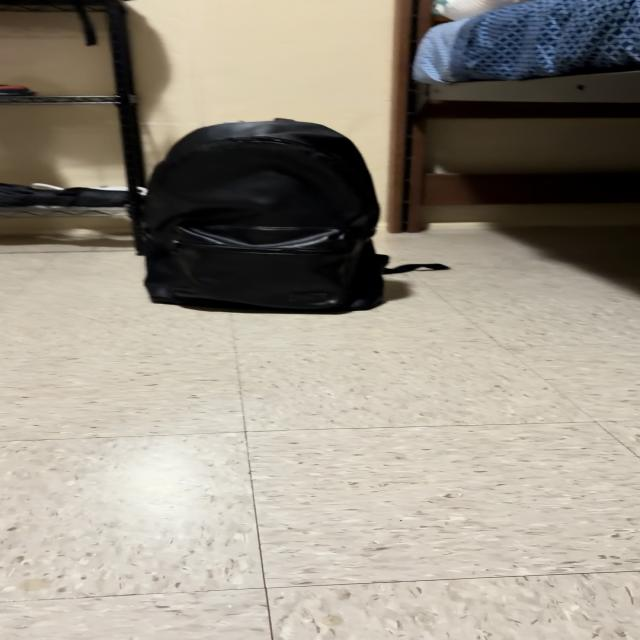backpack: (142, 120, 386, 310), (424, 265, 439, 268), (403, 269, 408, 270)
